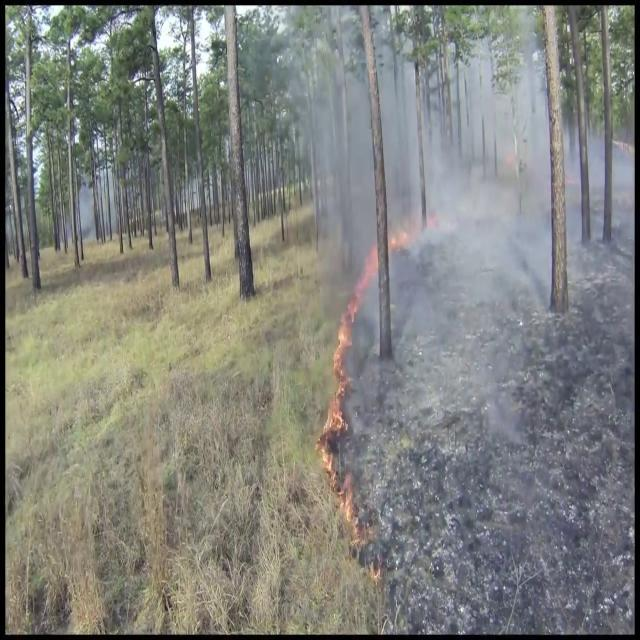Fire: (315, 290, 356, 466)
Smoke: (295, 0, 603, 382)
